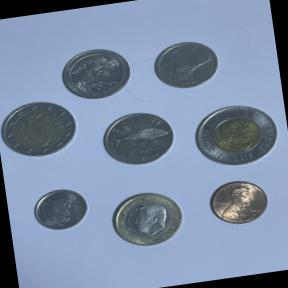1 Euro-B: (102, 182, 196, 256)
2 Euro-B: (0, 95, 82, 165)
Canada-10cent-B: (26, 180, 94, 238)
Canada-2Dollar-B: (185, 96, 286, 175)
Croatia-2Kune-B: (96, 104, 180, 173)
US-1cent-B: (198, 172, 274, 234)
US-25cent-B: (55, 40, 136, 104)
